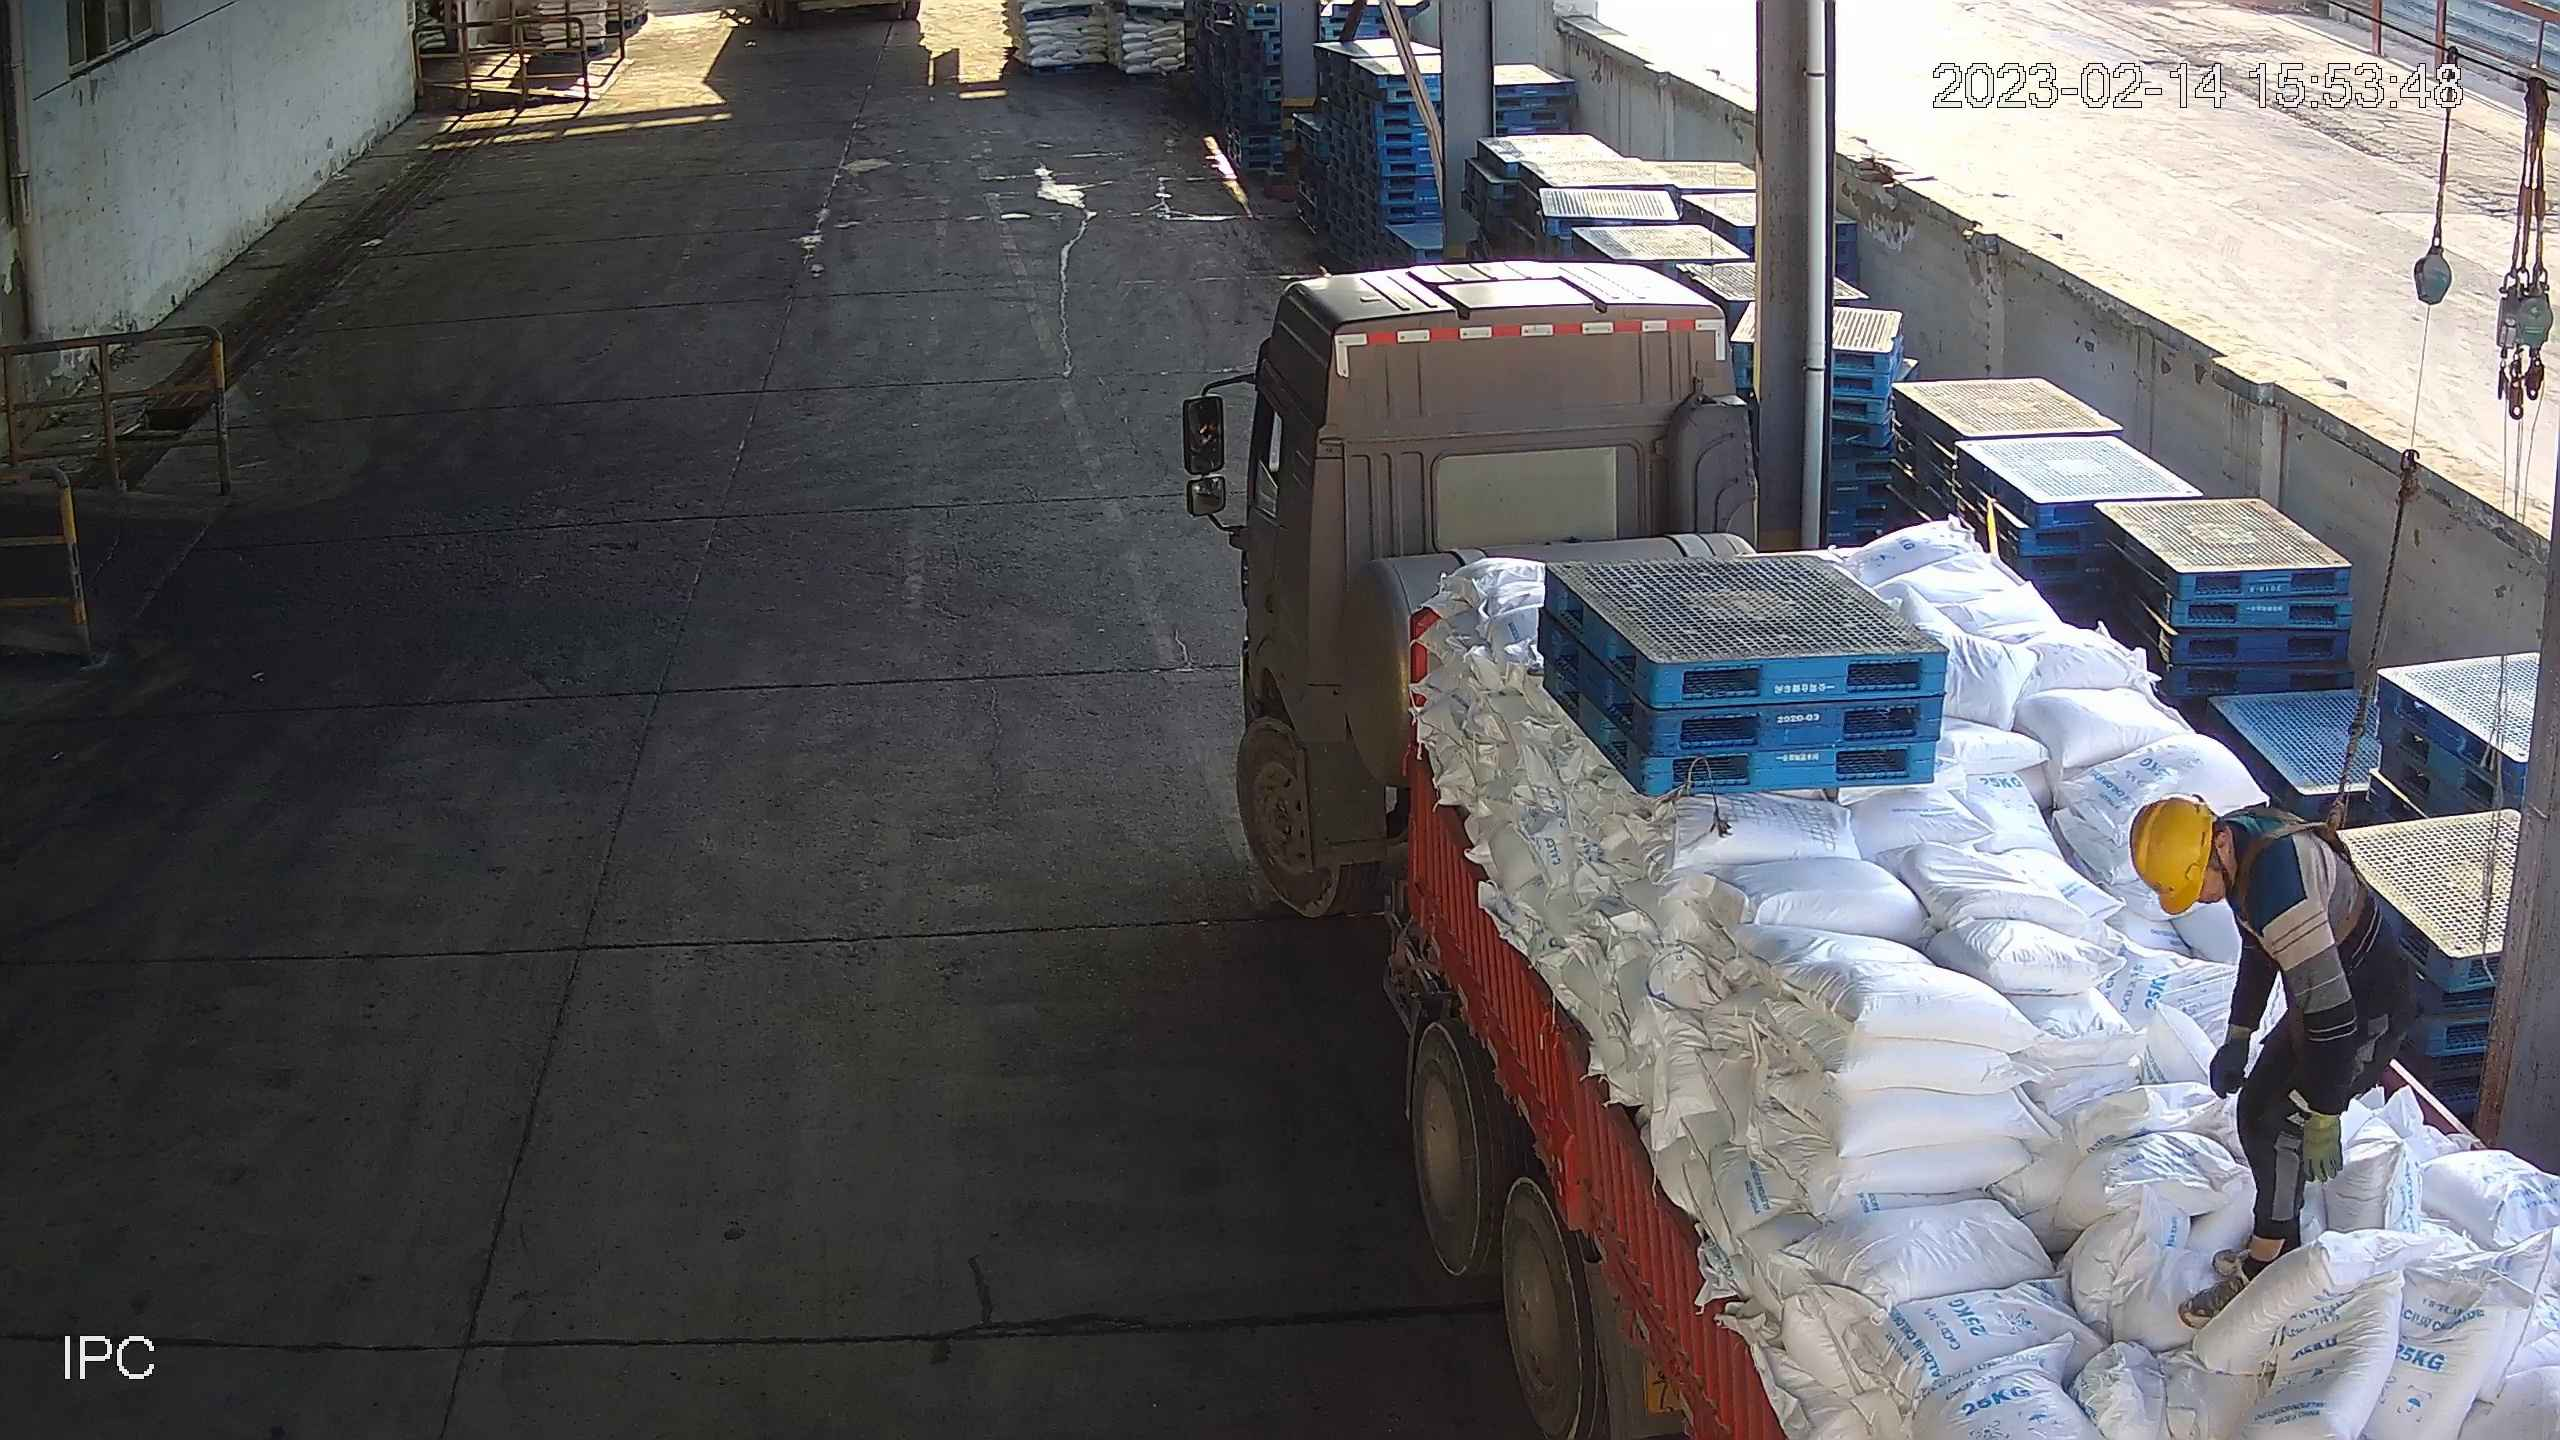belt: (2229, 799, 2348, 921)
head: (2136, 786, 2335, 949)
helmet: (2127, 792, 2218, 914)
people: (2120, 794, 2438, 1329)
truck: (1172, 260, 2560, 1440)
